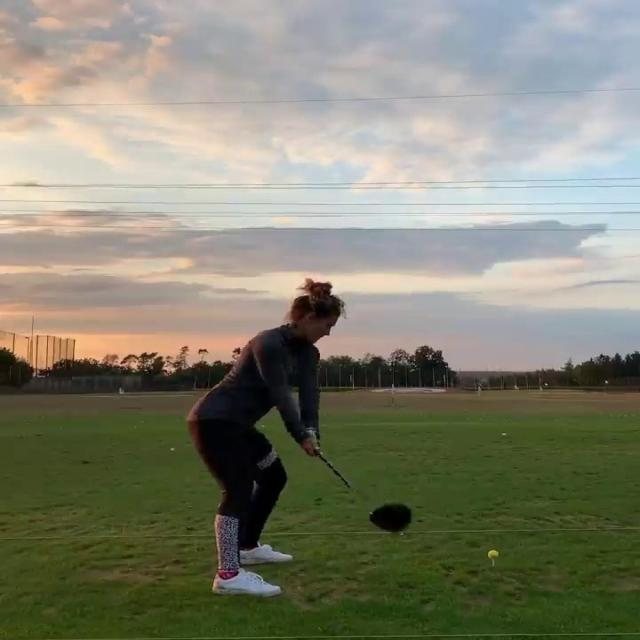golf ball: (487, 550, 500, 560)
golf club-handle: (310, 447, 411, 533)
golf club-head: (373, 501, 410, 535)
